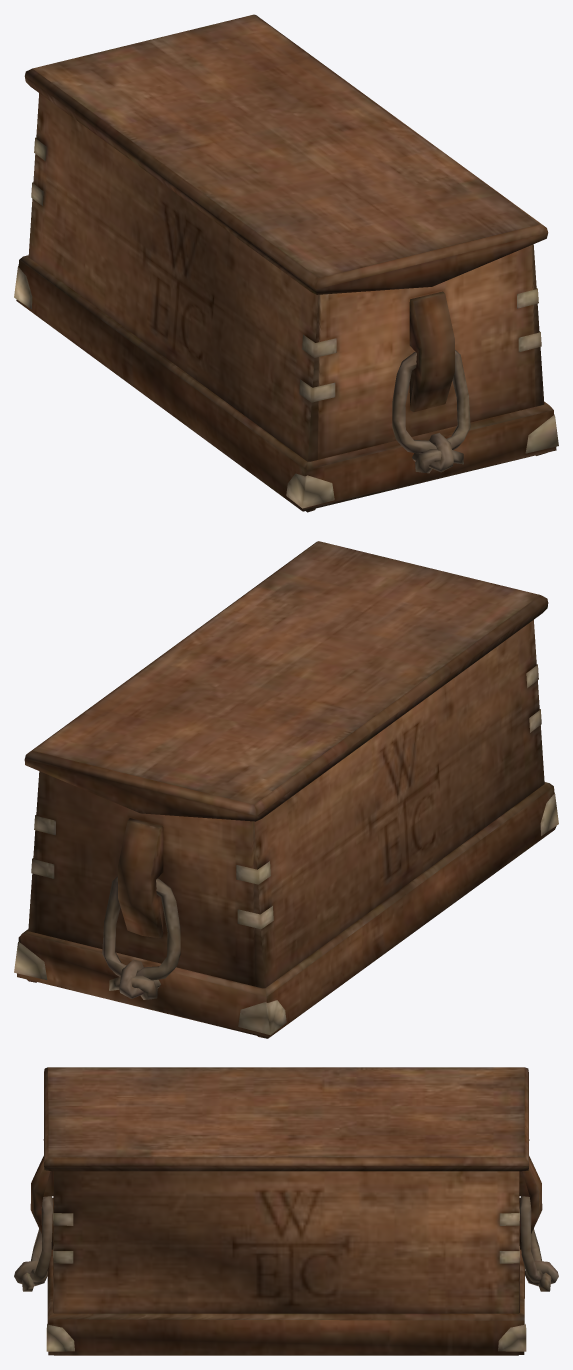
The model's file is prop_crate_02.glb.
3 views of the same model, one above another, from view 1: azimuth 30°, elevation 25°; view 2: azimuth 150°, elevation 25°; view 3: azimuth 270°, elevation 25° (orthographic). The views are drawn at different scales.
Visible parts, largest first — view 1: prop_crate_02; view 2: prop_crate_02; view 3: prop_crate_02.
Boxes of the visible parts, box(x1,y1,x2,y2) form: prop_crate_02: box(14, 14, 558, 512); prop_crate_02: box(14, 541, 558, 1038); prop_crate_02: box(14, 1067, 558, 1355).
Bounding box in the file's own units: 0.5274 × 0.4621 × 1.17.
1 material, 1 textured.
